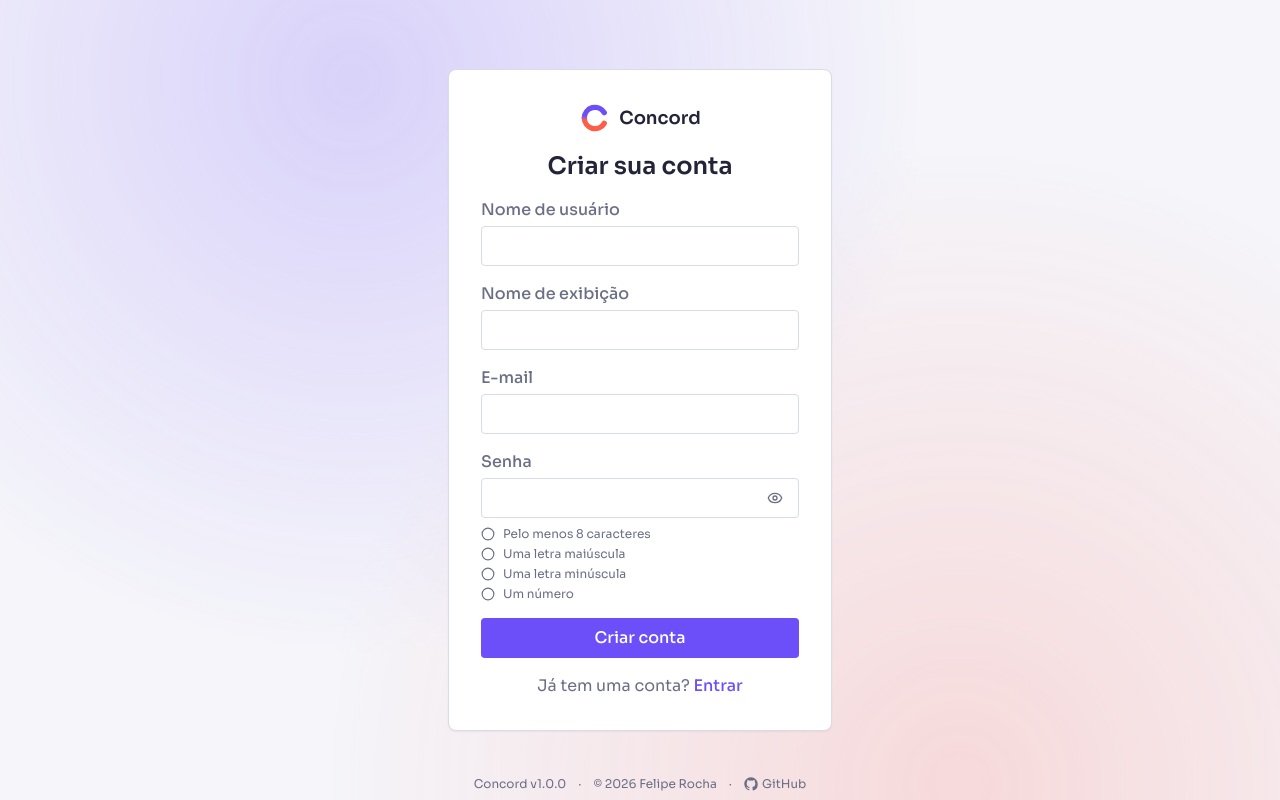
RegisterPage › shows the backend validation message when the mutation fails
This screenshot has width=1280, height=800.
Type "jdoe" into the field labelled "Nome de usuário" at (640, 246), box [481,226,799,266]
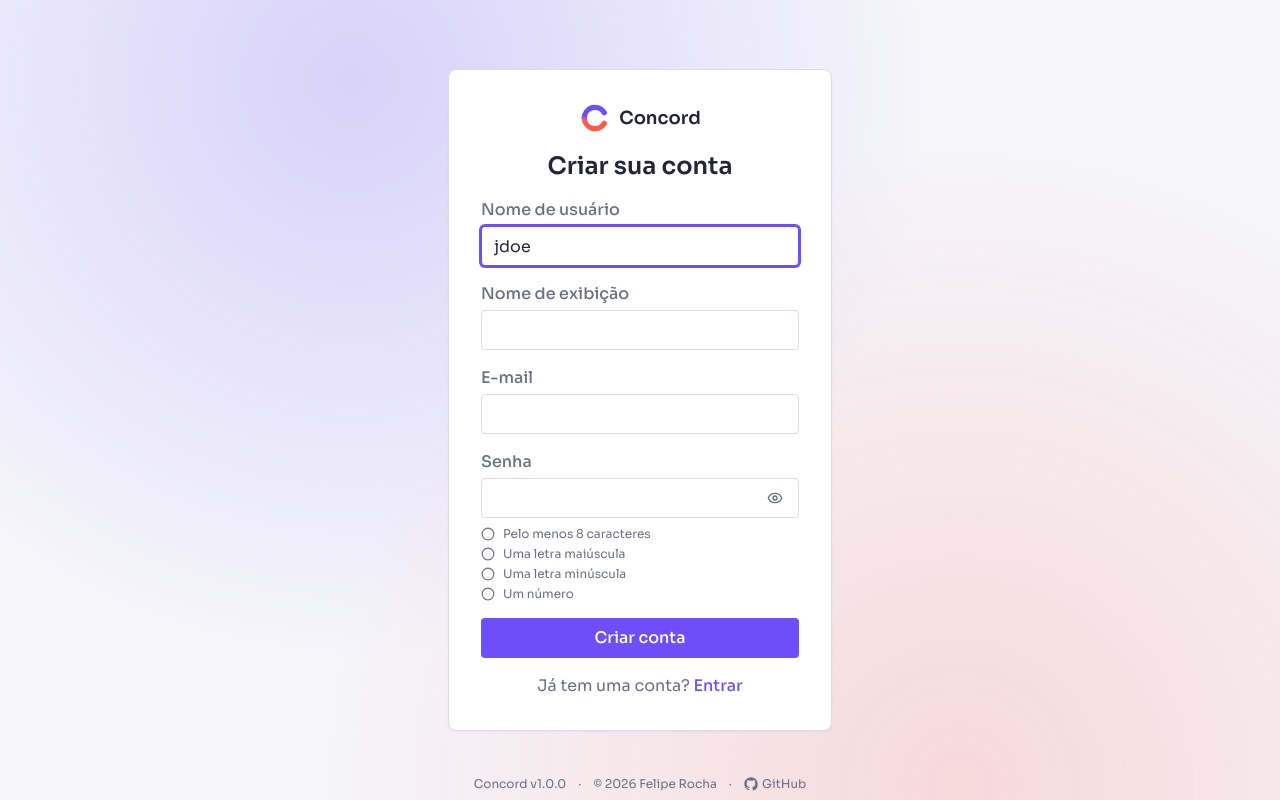
Type "John Doe" into the field labelled "Nome de exibição" at (640, 330), box [481,310,799,350]
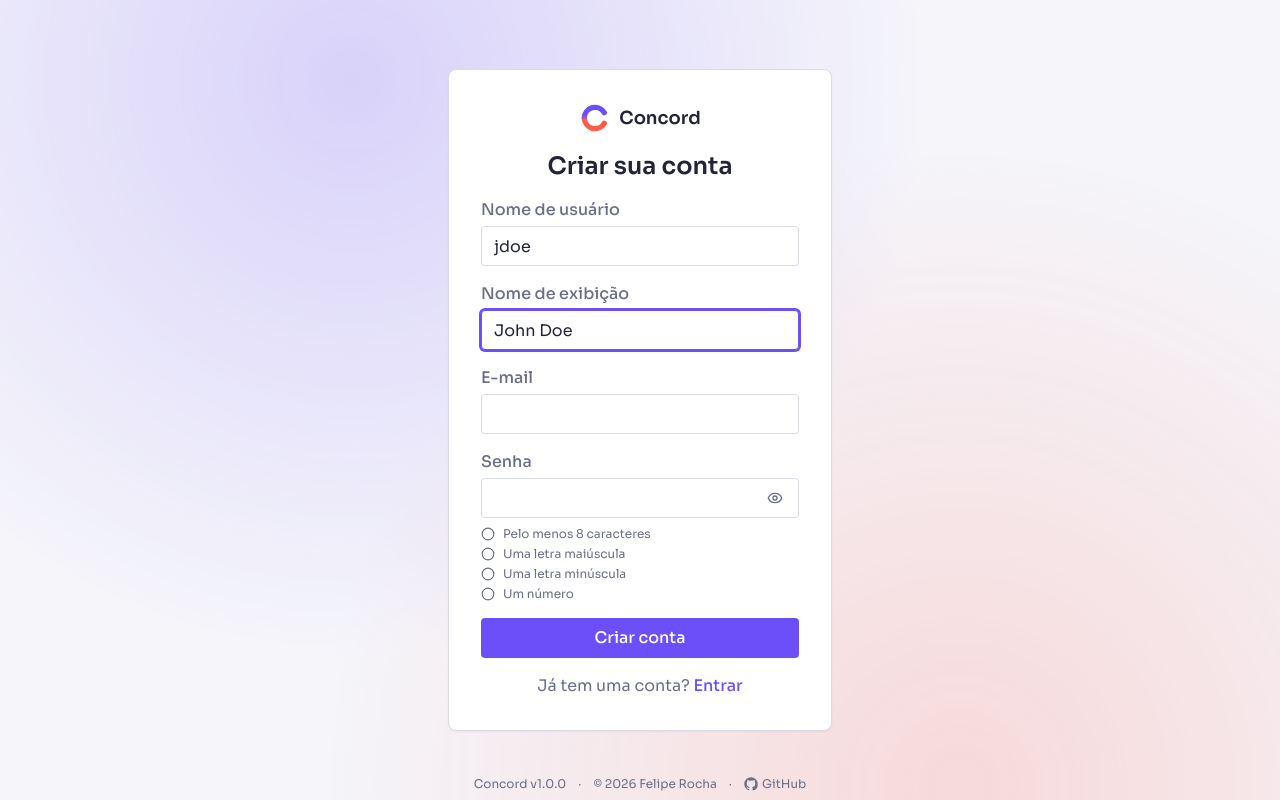
Type "alice@example.com" into the field labelled "E-mail" at (640, 414), box [481,394,799,434]
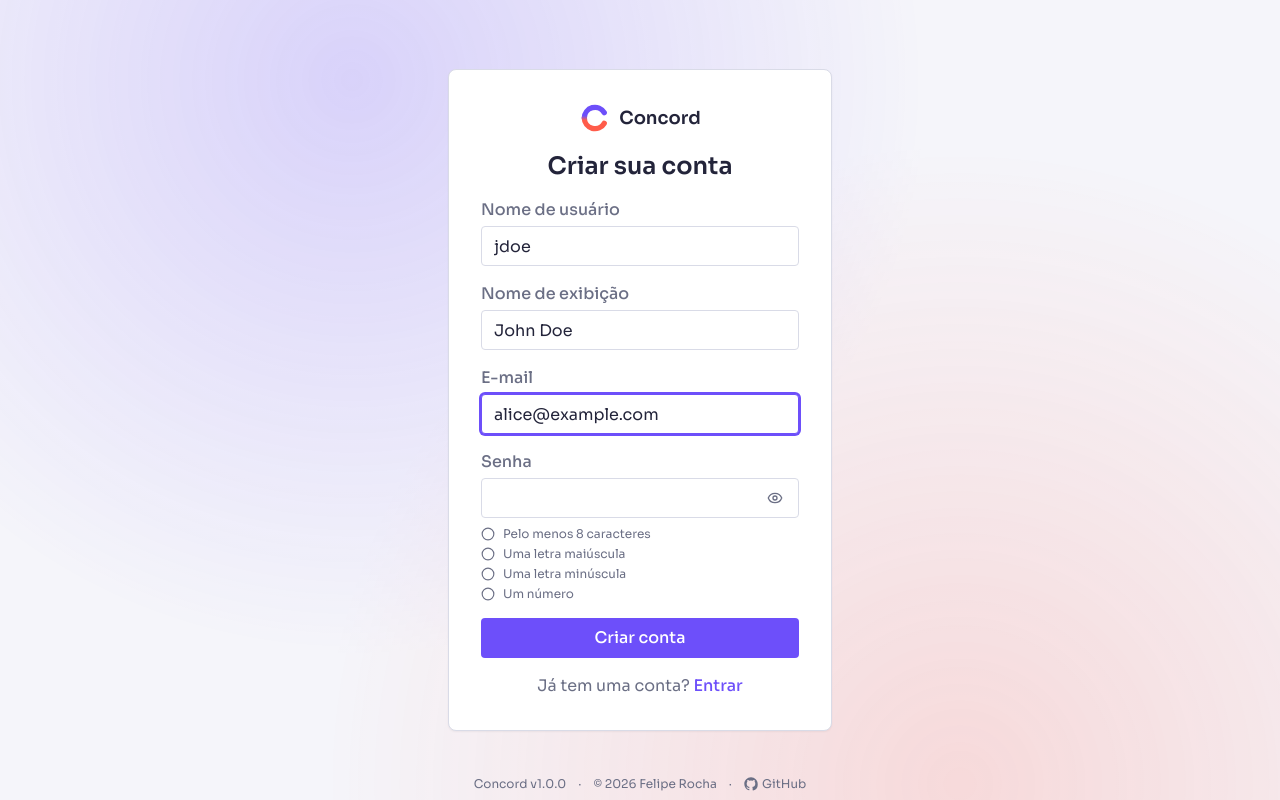
Type "Password123" into the password field labelled "Senha" at (640, 498), box [481,478,799,518]
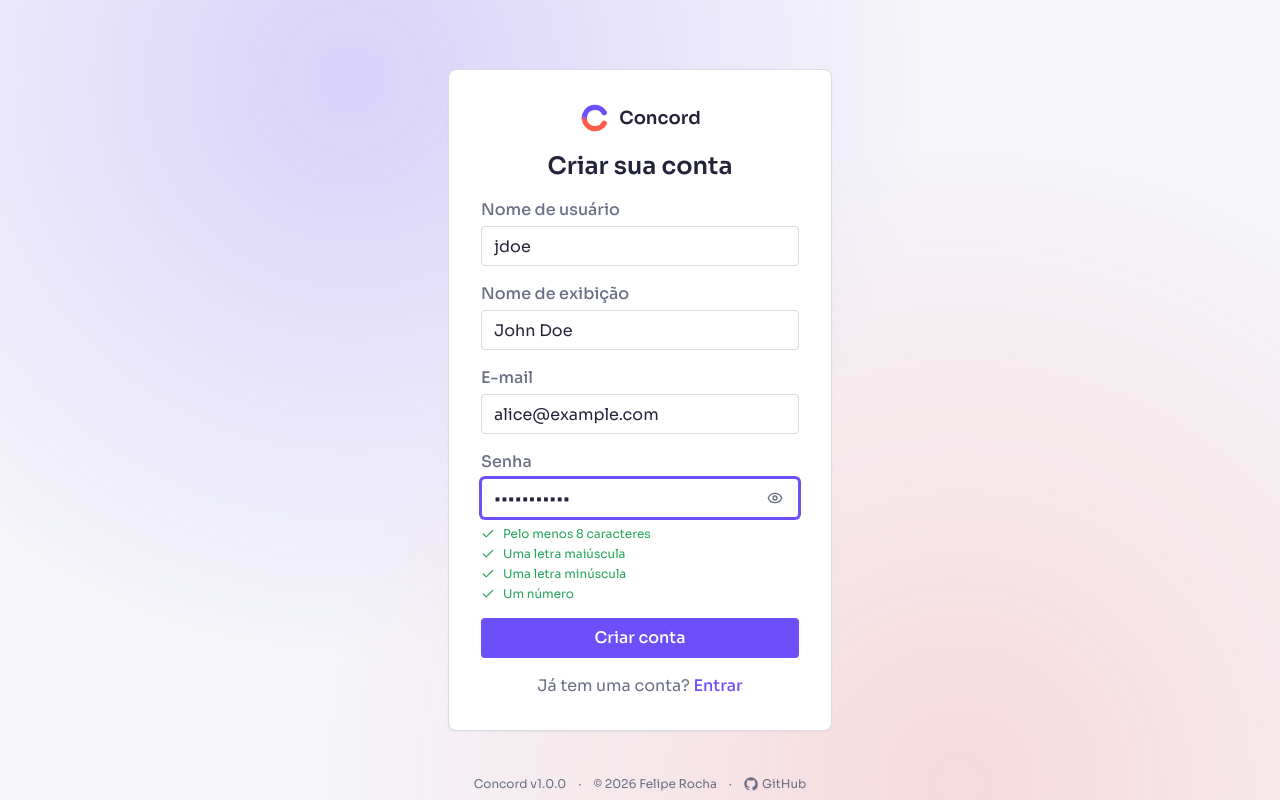
Click the button "Criar conta" at (640, 638), box [481,618,799,658]
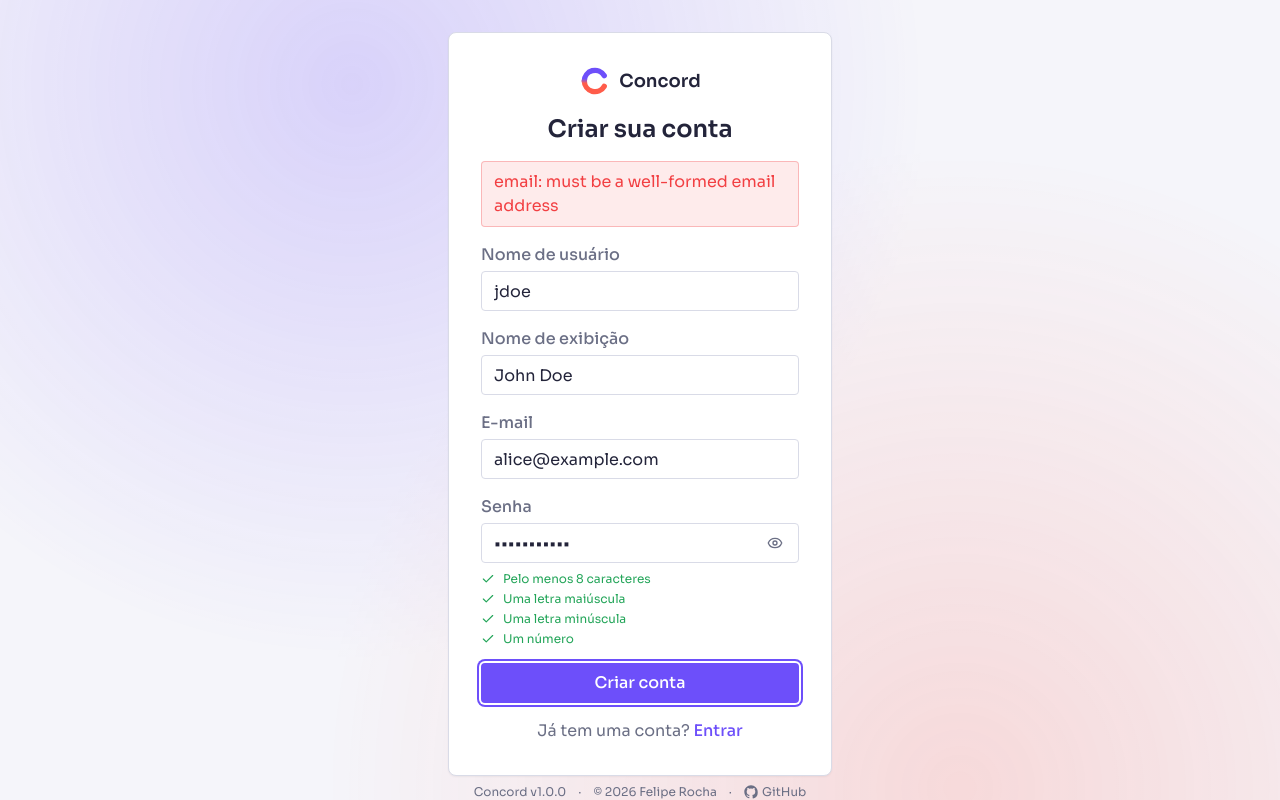
Now the message reads "email: must be a well-formed email address", box [494,171,776,216]
